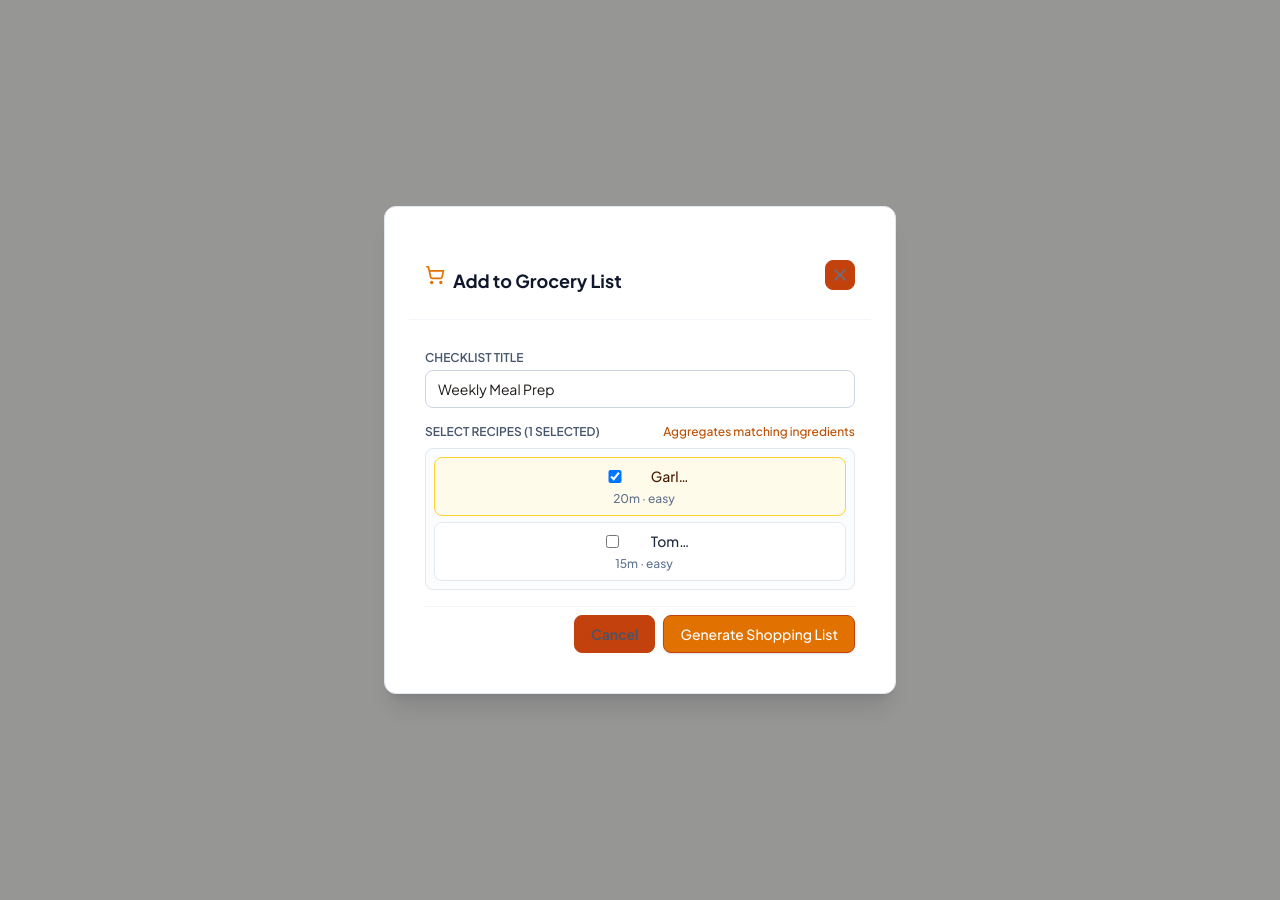
US4.2.4: AddToGroceryModal › Criterion 2: allows multi-selecting and toggling recipes
Expected: the text "Tomato Soup" is shown, [651,531,696,551]
Click the checkbox labelled "Tomato Soup 15m · easy" at (612, 541), box [584,535,641,548]
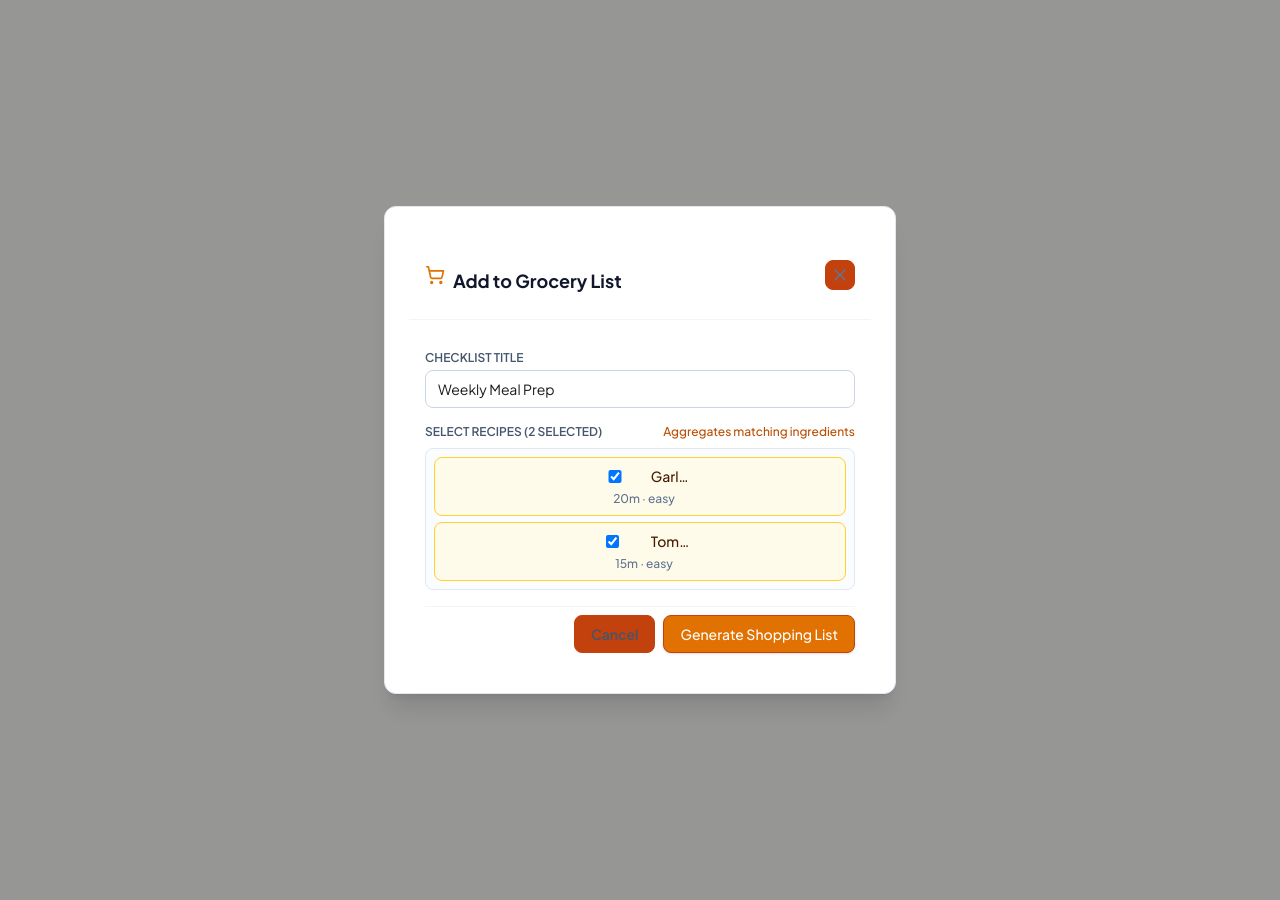
Expected: the checkbox labelled "Garlic Pasta 20m · easy" is checked, [589,470,641,483]
Expected: the checkbox labelled "Tomato Soup 15m · easy" is checked, [584,535,641,548]
Expected: the text "Select Recipes (2 selected)" is shown, [425,424,602,440]
